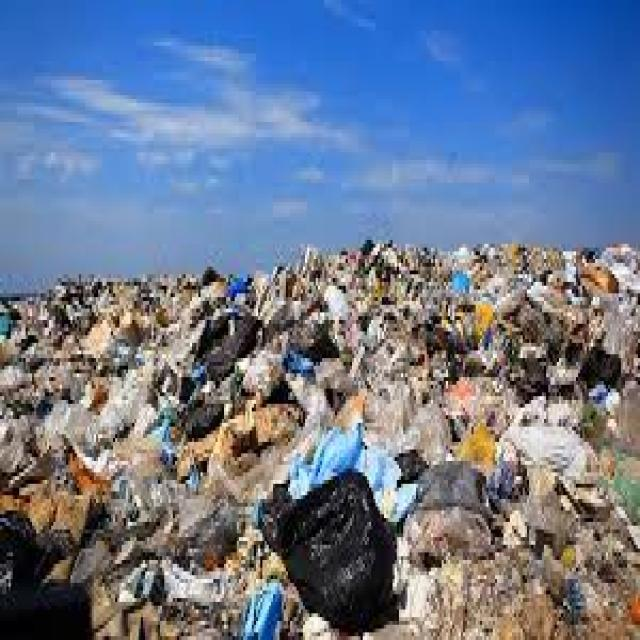Trashbag: (267, 471, 399, 624)
